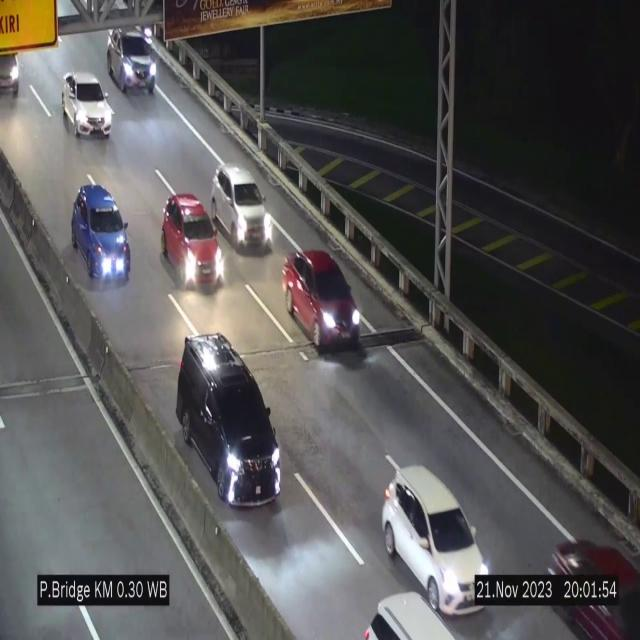Car: (176, 335, 280, 506), (382, 466, 491, 615), (534, 518, 640, 640), (283, 245, 364, 348), (158, 195, 226, 292), (72, 184, 130, 281), (211, 165, 271, 252), (357, 599, 468, 640), (105, 28, 158, 96), (62, 72, 112, 138), (0, 42, 28, 96)
